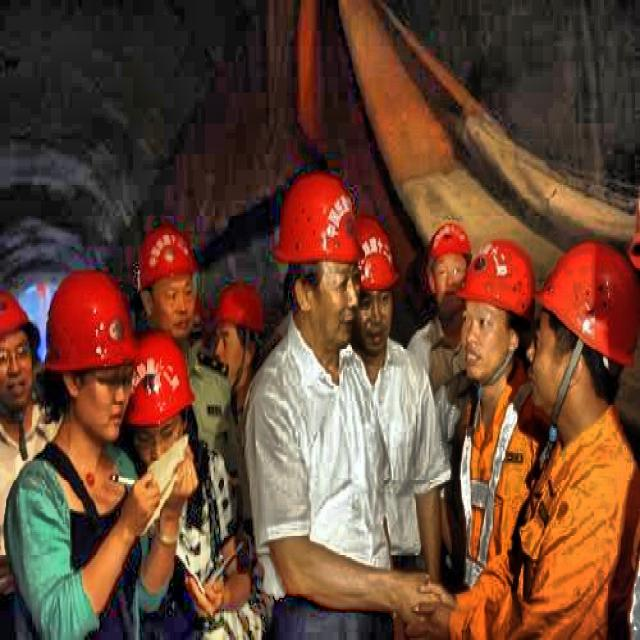helmet: (526, 239, 639, 436), (271, 170, 365, 358), (45, 268, 139, 439), (453, 237, 540, 388), (124, 328, 201, 482), (343, 218, 398, 353), (136, 228, 198, 340), (206, 286, 265, 388), (1, 287, 41, 428), (428, 222, 474, 322)
